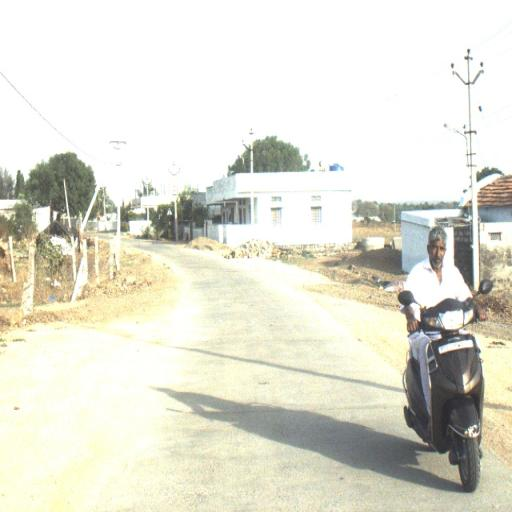street_light_0: (443, 122, 479, 170)
